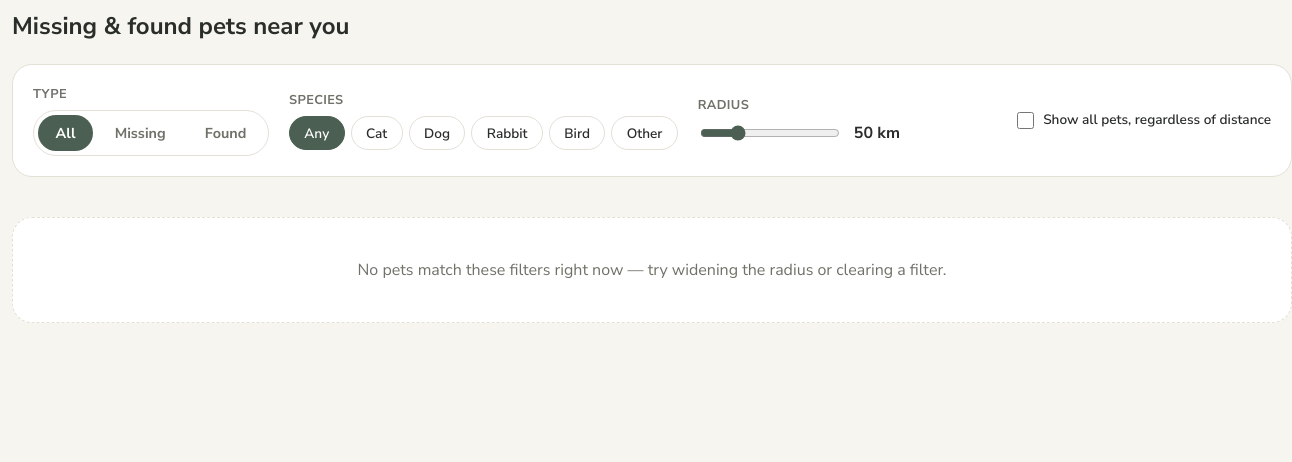
Scenario: the "show all" checkbox bypasses the radius filter and disables the radius input
Check: the text "Missing: cat" is not shown
Check: the text "No pets match these filters" is shown, box [358,259,946,281]
Click the checkbox labelled "Show all pets, regardless of distance".
click(1026, 120)  # box [1017,112,1034,129]
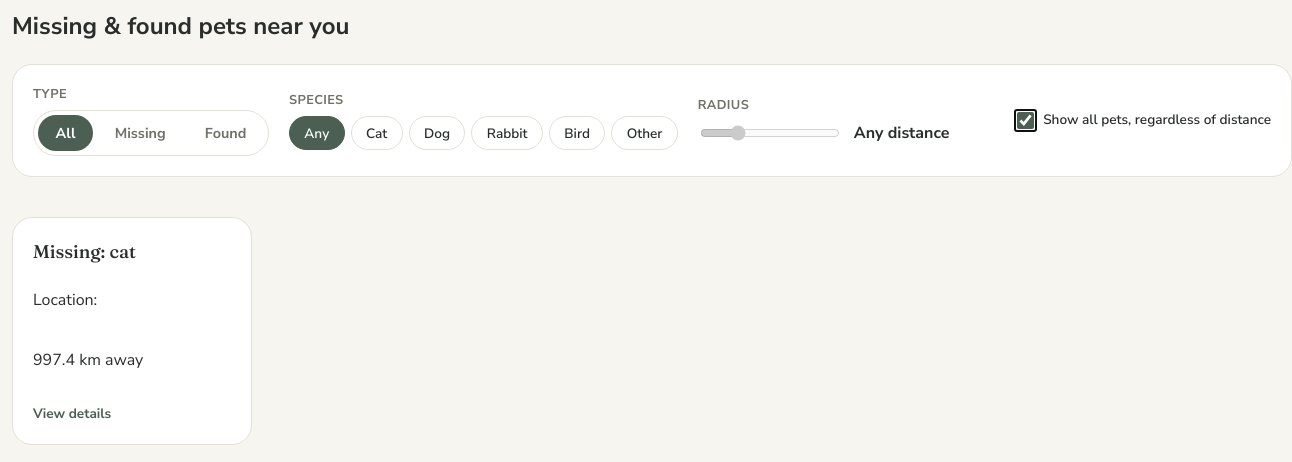
Check: the heading "Missing: cat" is shown, box [33,240,136,263]
Check: the slider labelled "Radius" is disabled, box [700,125,840,141]
